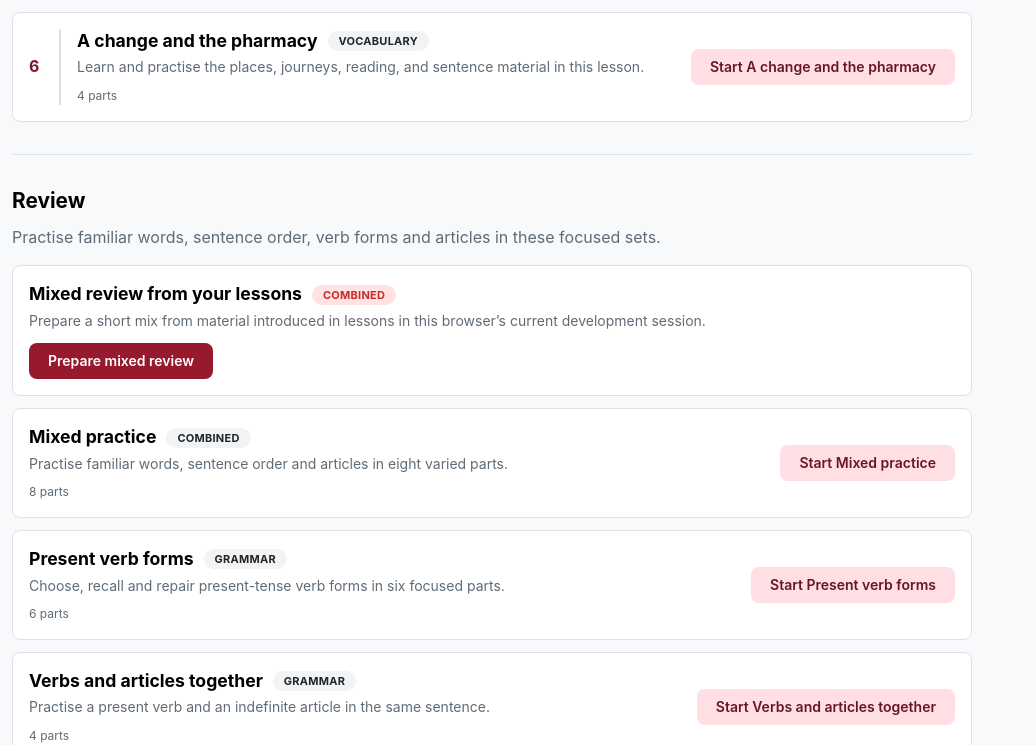
Test: rejects an unsupported review preparation without exposing a start action
This screenshot has width=1036, height=745.
(page scrolled)
Click the button "Prepare mixed review" at (121, 361), box [29,343,213,379]
(page scrolled)
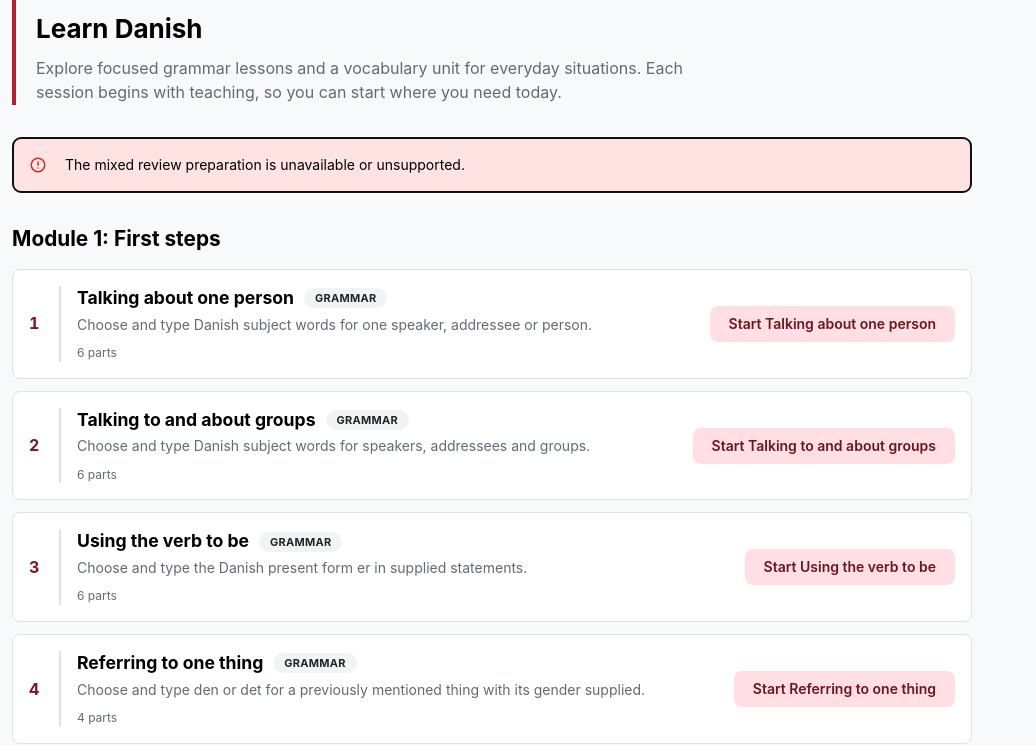
expect the message shows "unavailable or unsupported": met, box [65,156,465,173]
